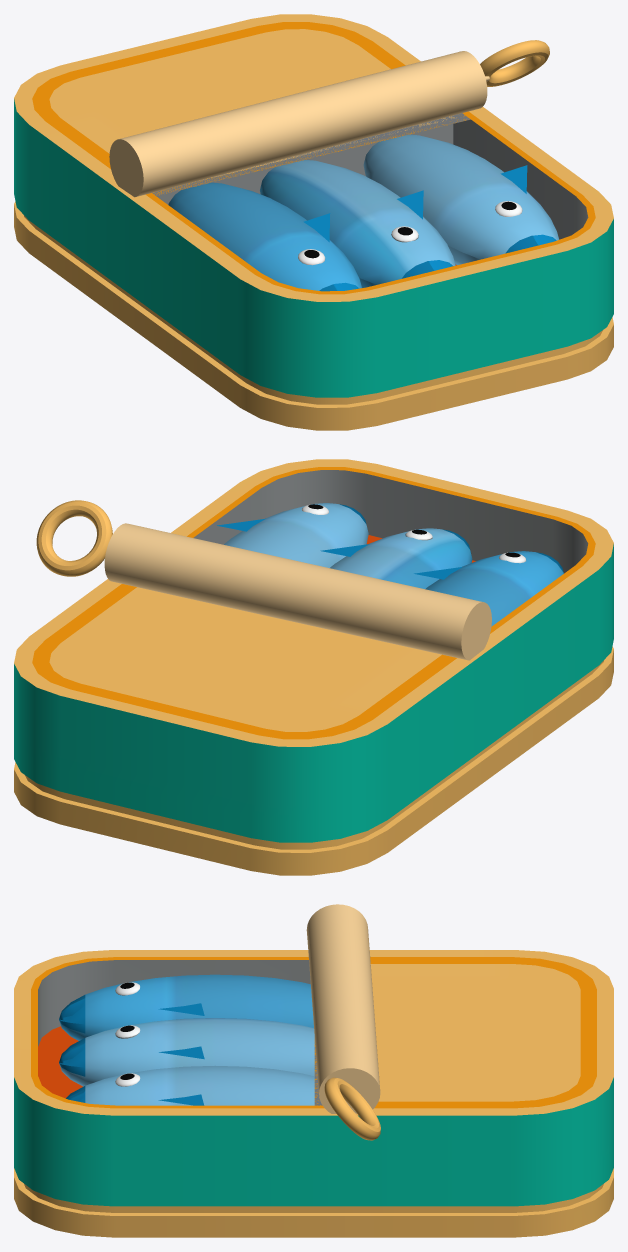
File: LataSardinha.glb
The picture shows the model from 3 angles, top to bottom: view 1: azimuth 30°, elevation 25°; view 2: azimuth 150°, elevation 25°; view 3: azimuth 270°, elevation 25°; orthographic projection. The views are drawn at different scales.
Parts seen in each view (by area): view 1: LataSardinha; view 2: LataSardinha; view 3: LataSardinha.
Boxes of the visible parts, bbox=[...] form: LataSardinha: bbox=[14, 14, 613, 430]; LataSardinha: bbox=[14, 459, 613, 875]; LataSardinha: bbox=[14, 904, 613, 1237].
Bounding box in the file's own units: 0.7914 × 0.3205 × 1.
Materials: 1 (1 with a texture image).
